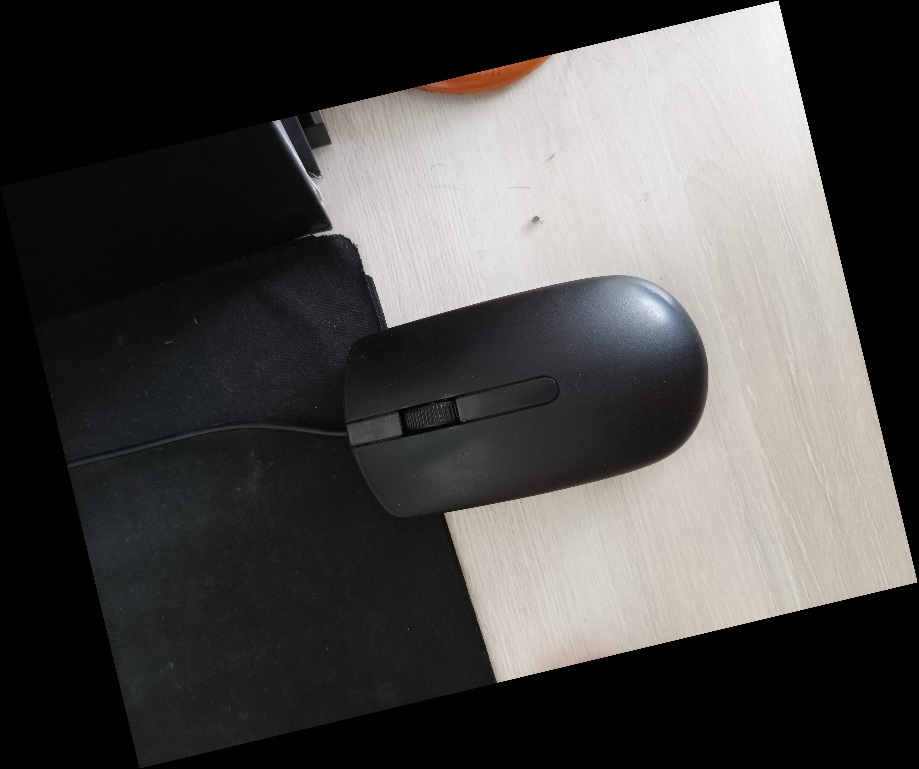mouse: (335, 268, 712, 526)
